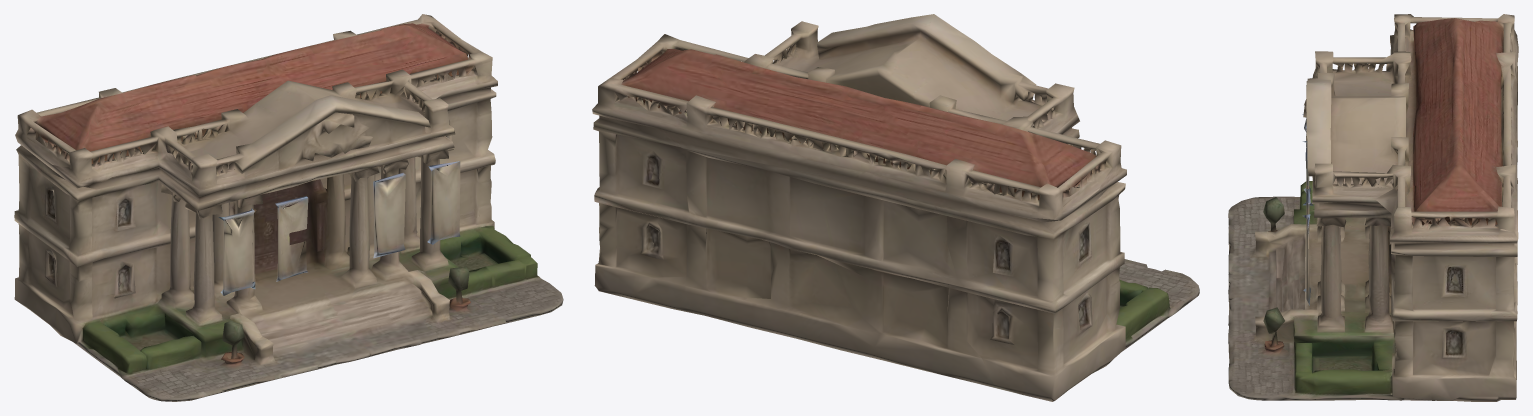
File: museum_main.glb
The picture shows the model from 3 angles, left to right: view 1: azimuth 30°, elevation 25°; view 2: azimuth 150°, elevation 25°; view 3: azimuth 270°, elevation 25°; orthographic projection. The views are drawn at different scales.
Parts seen in each view (by area): view 1: tripo_node_f86e97b7-c9aa-4c55-816d-741bb5d6f374; view 2: tripo_node_f86e97b7-c9aa-4c55-816d-741bb5d6f374; view 3: tripo_node_f86e97b7-c9aa-4c55-816d-741bb5d6f374.
Part boxes in pixels (box(x1,y1,x2,y2)): tripo_node_f86e97b7-c9aa-4c55-816d-741bb5d6f374: box(14, 14, 563, 401); tripo_node_f86e97b7-c9aa-4c55-816d-741bb5d6f374: box(592, 14, 1199, 401); tripo_node_f86e97b7-c9aa-4c55-816d-741bb5d6f374: box(1228, 14, 1518, 401).
Size of the model in its own units: 1 by 0.5056 by 0.6037.
Materials: 1 (1 with a texture image).
